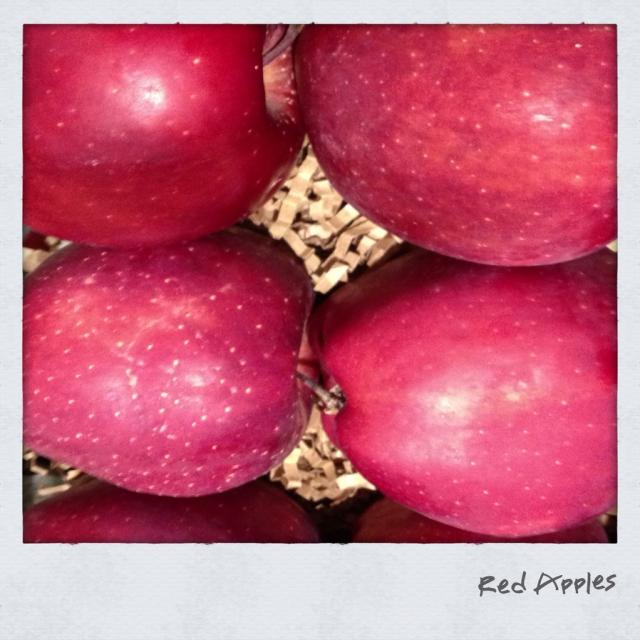Healty Apple: (312, 245, 618, 542), (25, 226, 345, 498), (292, 20, 617, 266), (25, 20, 307, 248), (18, 479, 320, 543), (351, 494, 609, 544)
